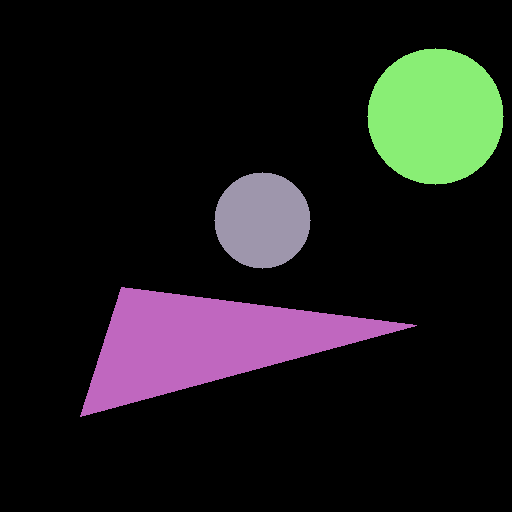circle: (367, 48, 503, 184), (214, 172, 310, 268)
triangle: (80, 287, 416, 416)
